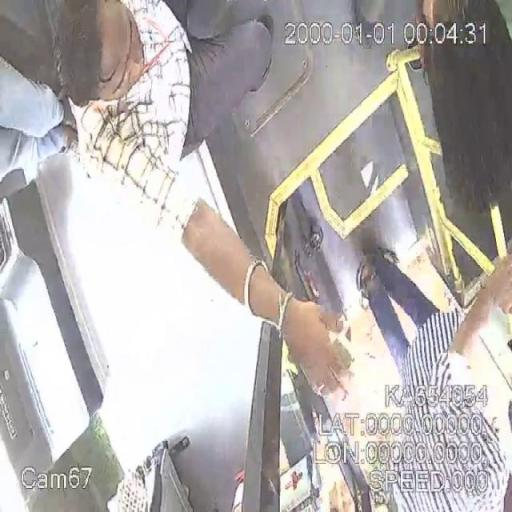persona: (62, 0, 356, 402), (354, 239, 512, 511)
